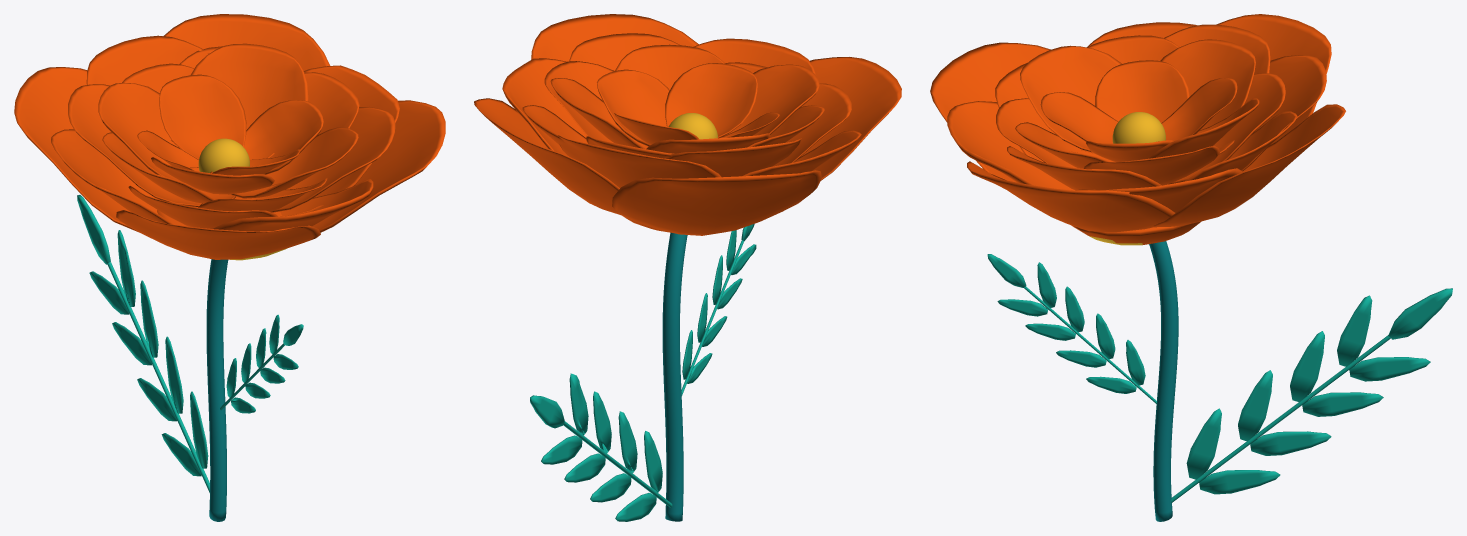
The model's file is Marigold_Harvested.fbx.
3 views of the same model, side by side, from view 1: azimuth 30°, elevation 25°; view 2: azimuth 150°, elevation 25°; view 3: azimuth 270°, elevation 25° (orthographic). The views are drawn at different scales.
Visible parts, largest first — view 1: Merigold_United.001; view 2: Merigold_United.001; view 3: Merigold_United.001.
Part boxes in pixels (x1,y1,x2,y2): Merigold_United.001: (14,14,445,521); Merigold_United.001: (474,14,901,521); Merigold_United.001: (930,14,1452,521).
Size of the model in its own units: 34.23 by 41.67 by 44.41.
